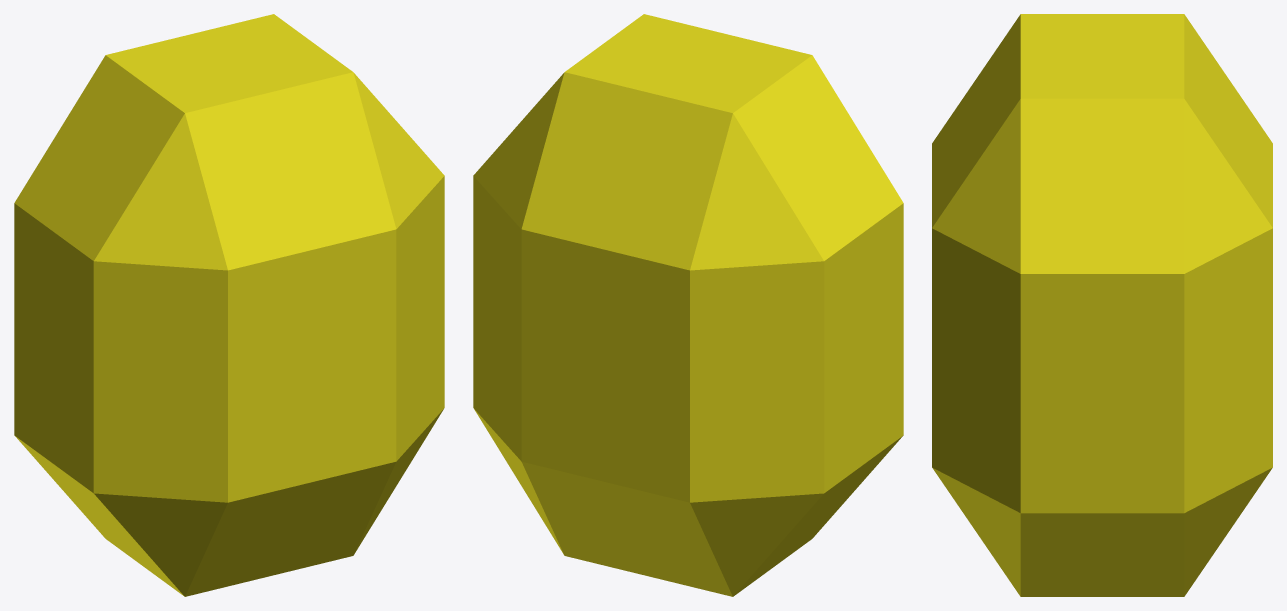
The model's file is gold satuan.fbx.
3 renders of one model, left to right at view 1: azimuth 30°, elevation 25°; view 2: azimuth 150°, elevation 25°; view 3: azimuth 270°, elevation 25°, orthographic. The views are drawn at different scales.
Parts seen in each view (by area): view 1: Cube.008; view 2: Cube.008; view 3: Cube.008.
Boxes of the visible parts, x1=… form: Cube.008: x1=14, y1=14, x2=444, y2=596; Cube.008: x1=473, y1=14, x2=903, y2=596; Cube.008: x1=932, y1=14, x2=1272, y2=596.
Bounding box in the file's own units: 6.91 × 9.1 × 5.64.
